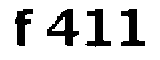1: (83, 7, 113, 53), (120, 7, 150, 52)
4: (44, 4, 80, 48)
f: (13, 5, 36, 48)
